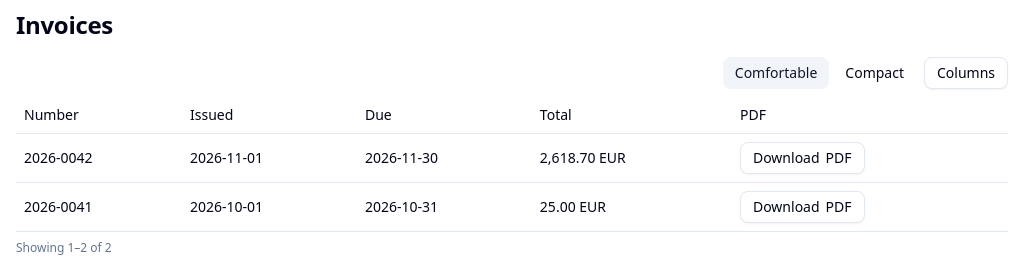
Test case: a PDF that cannot be downloaded says so
Click the button named "Download invoice 2026-0041 as PDF" at coordinates (802, 207), box [740,191,865,223]
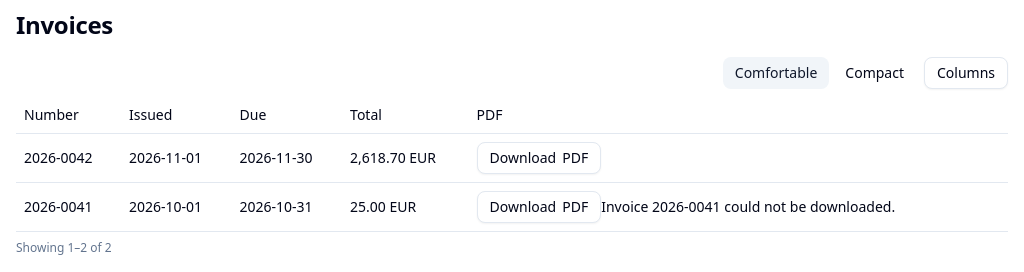
Now the message reads "Invoice 2026-0041 could not be downloaded.", box [601,197,895,216]
